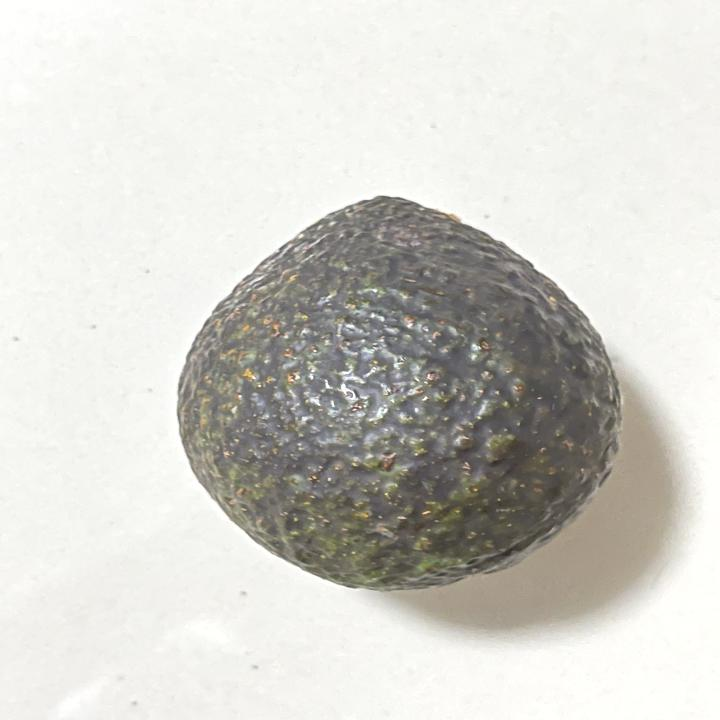Level1: (164, 185, 632, 600)
